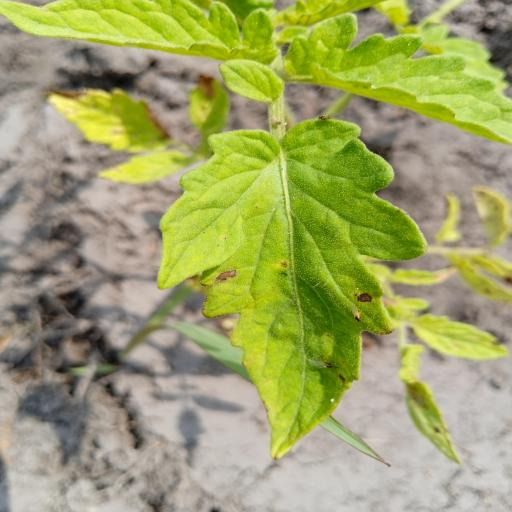Tomato_Brown_Spots: (150, 117, 430, 465), (272, 9, 512, 143), (0, 0, 299, 67)
